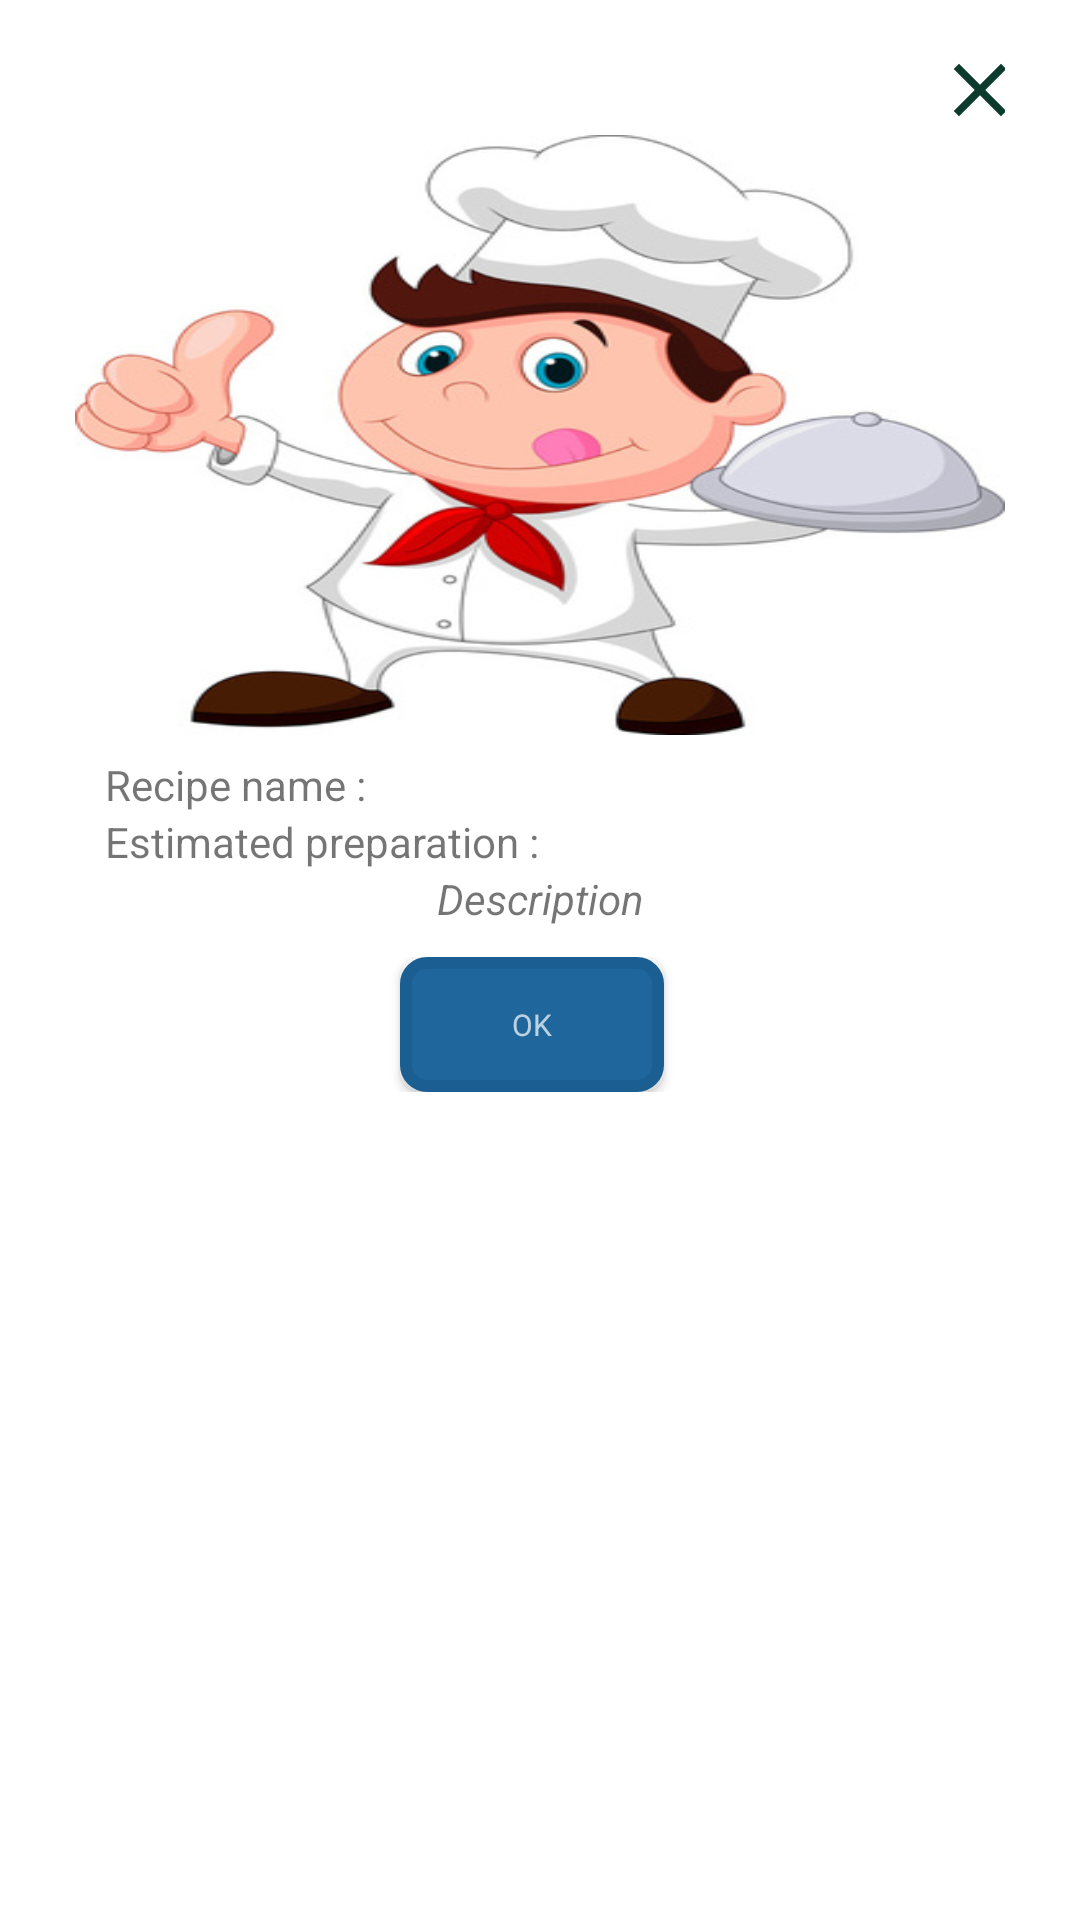

Screen size 1080 × 1920. Icon name, then its center in pixels as (x,y):
close: (979,90)
